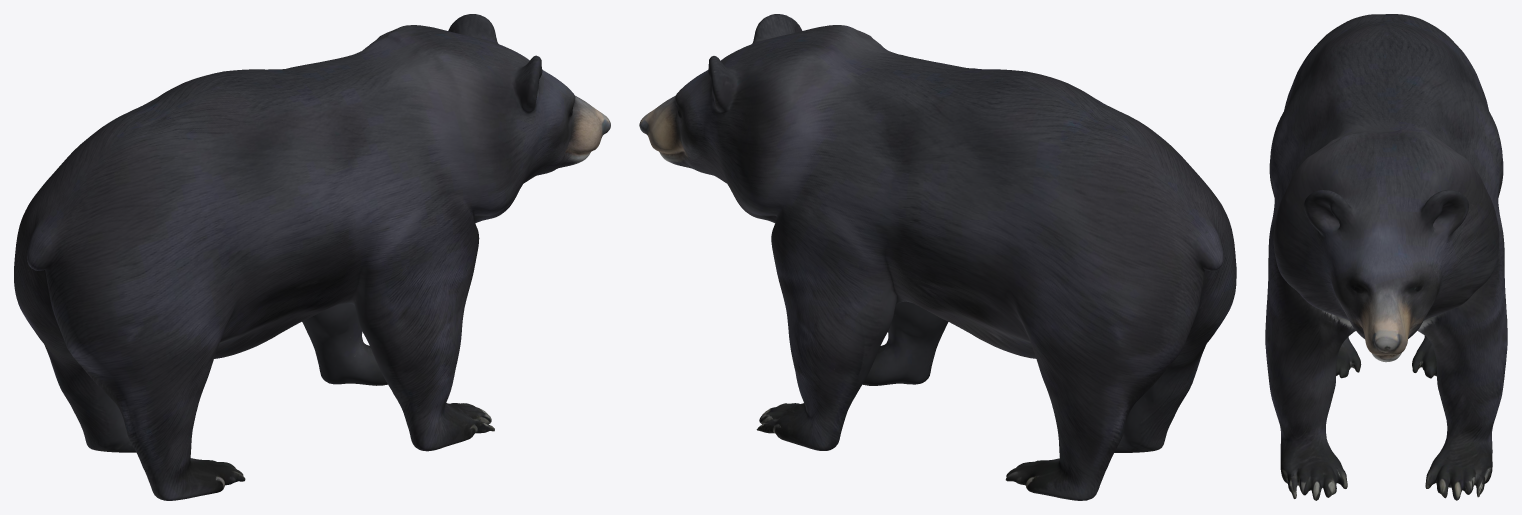
File: belogrudi.glb
3 renders of one model, left to right at view 1: azimuth 30°, elevation 25°; view 2: azimuth 150°, elevation 25°; view 3: azimuth 270°, elevation 25°, orthographic. The views are drawn at different scales.
Visible parts, largest first — view 1: tripo_node_a422cfbe-9050-4227-9ad5-30c81c5e0c32; view 2: tripo_node_a422cfbe-9050-4227-9ad5-30c81c5e0c32; view 3: tripo_node_a422cfbe-9050-4227-9ad5-30c81c5e0c32.
Part boxes in pixels (<box>): tripo_node_a422cfbe-9050-4227-9ad5-30c81c5e0c32: <box>14,14,610,500</box>; tripo_node_a422cfbe-9050-4227-9ad5-30c81c5e0c32: <box>639,14,1236,500</box>; tripo_node_a422cfbe-9050-4227-9ad5-30c81c5e0c32: <box>1265,14,1507,500</box>.
Bounding box in the file's own units: 0.9482 × 0.5734 × 0.3529.
Materials: 1 (1 with a texture image).
